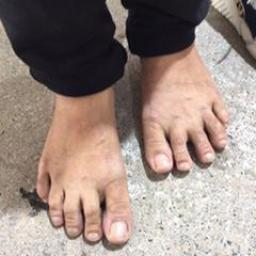Dorsal View -Both Feet-: (24, 33, 241, 250)
